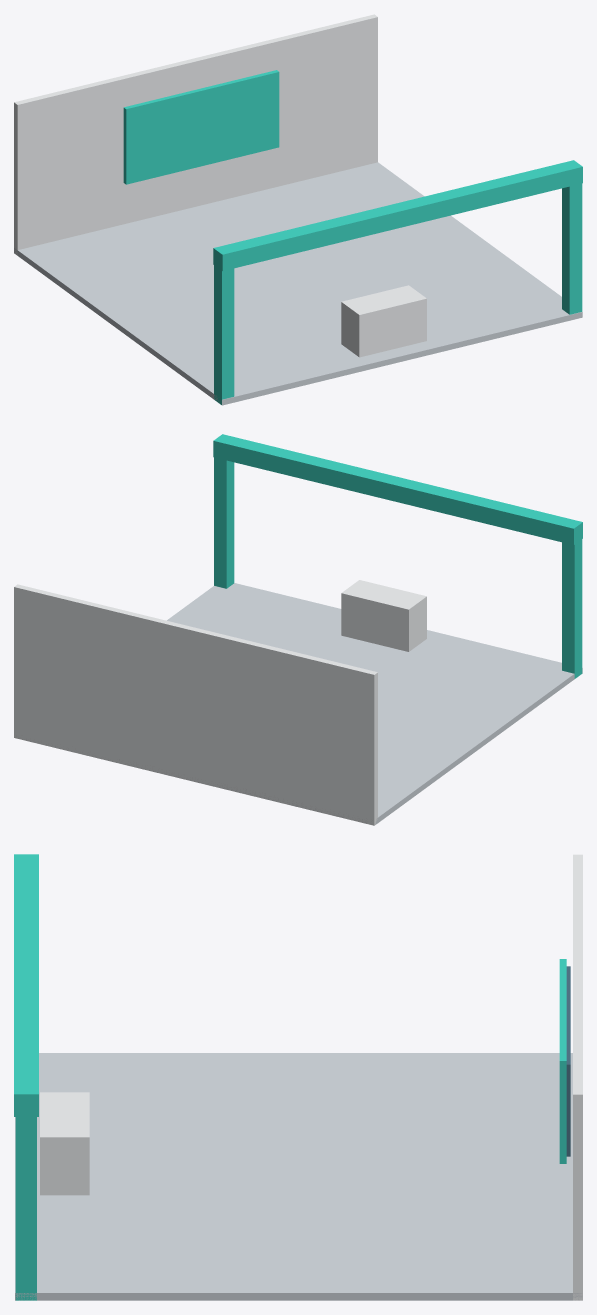
3 views of the same model, one above another, from view 1: azimuth 30°, elevation 25°; view 2: azimuth 150°, elevation 25°; view 3: azimuth 270°, elevation 25° (orthographic). The views are drawn at different scales.
Parts seen in each view (by area): view 1: Exhibition Booth Concept; view 2: Exhibition Booth Concept; view 3: Exhibition Booth Concept.
Part boxes in pixels (x1,y1,x2,y2): Exhibition Booth Concept: (14, 14, 582, 405); Exhibition Booth Concept: (14, 434, 582, 825); Exhibition Booth Concept: (14, 854, 582, 1300).
Bounding box in the file's own units: 8 × 3.2 × 8.01.
